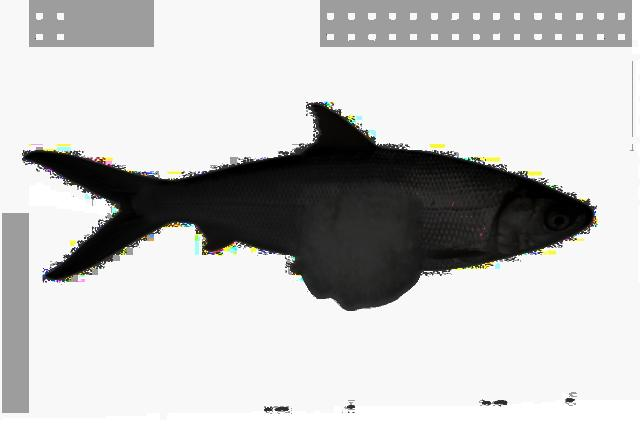Fungal Disease -Saprolegniasis-: (28, 105, 592, 305)
